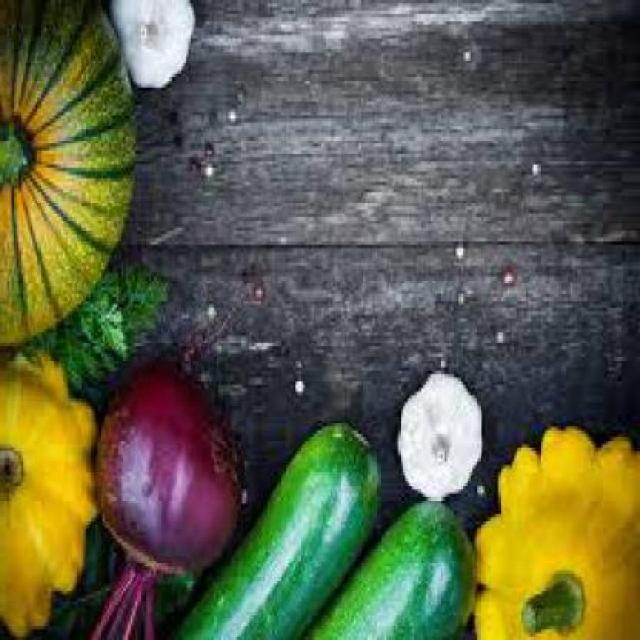BIODEGRADABLE: (156, 423, 384, 639), (2, 3, 138, 346), (83, 371, 249, 637), (478, 430, 638, 638), (3, 353, 105, 633), (295, 504, 477, 639), (21, 270, 168, 392), (400, 378, 486, 504), (112, 3, 196, 99)
